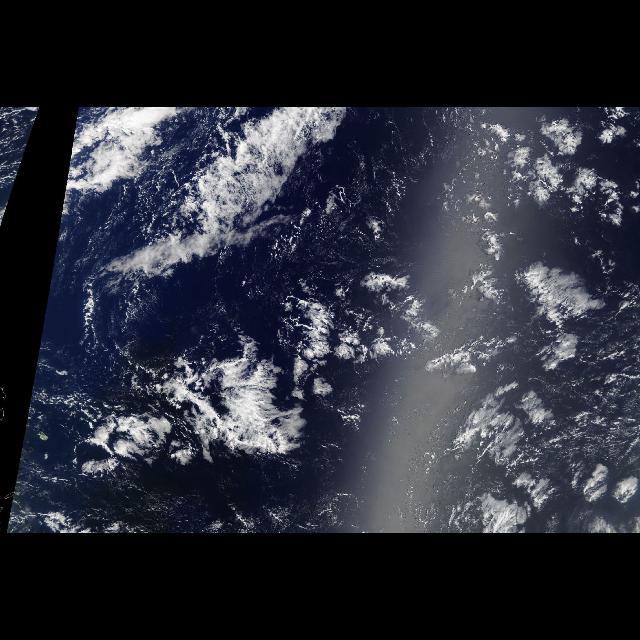Fish: (96, 108, 348, 306), (115, 366, 479, 482)
